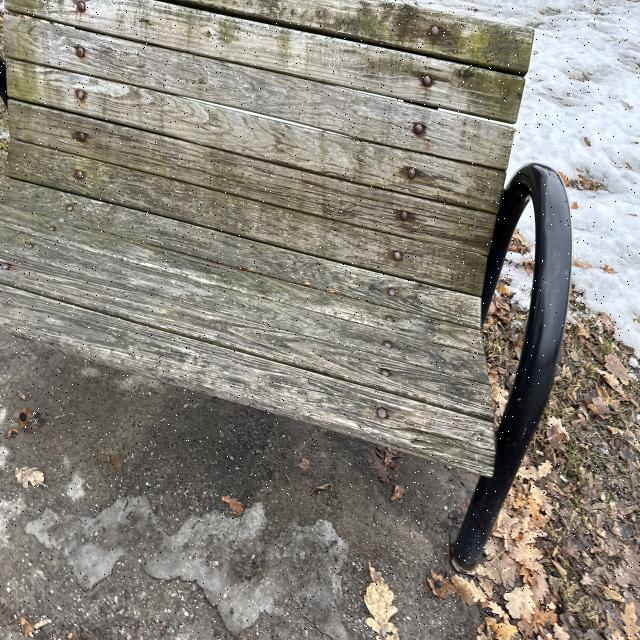Bench: (0, 13, 591, 547)
